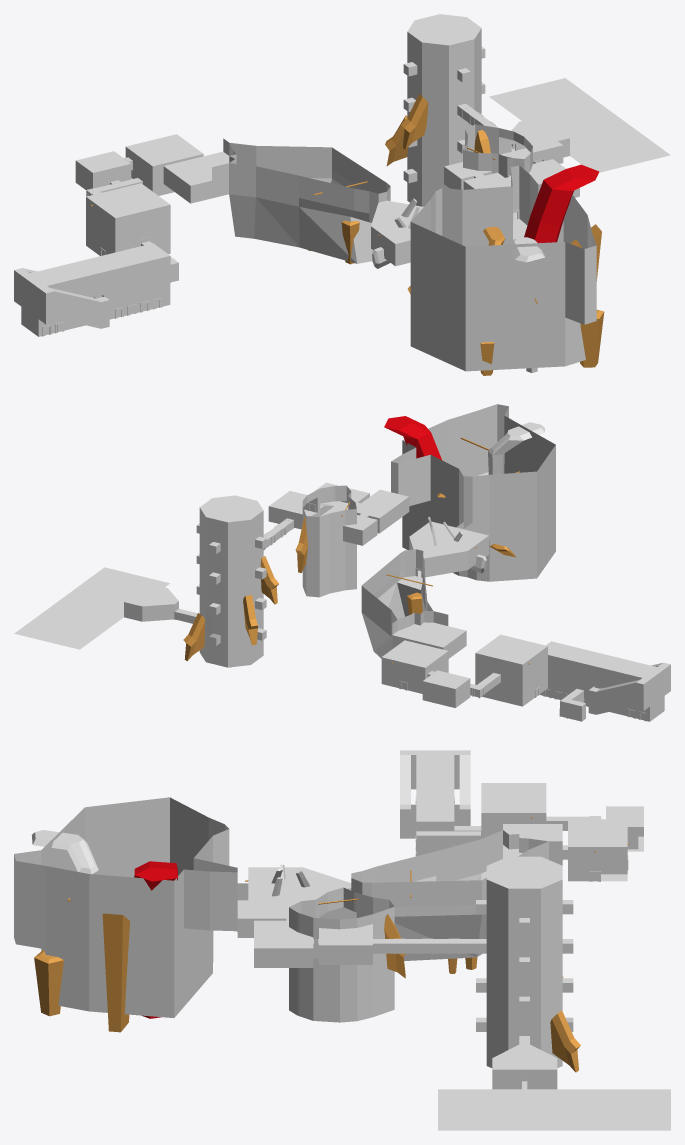
Rendered from Level1.fbx.
3 views of the same model, one above another, from view 1: azimuth 30°, elevation 25°; view 2: azimuth 150°, elevation 25°; view 3: azimuth 270°, elevation 25° (orthographic). The views are drawn at different scales.
Parts seen in each view (by area): view 1: Level, Roof, Cylinder.022, Cylinder.019, Brokenfacility.001, Cylinder.016, Brokenfacility.002; view 2: Level, Roof, Cylinder.022, Cylinder.016, Brokenfacility.003, Brokenfacility.002, Brokenfacility.001; view 3: Level, Roof, Cylinder.021, Cylinder.019, Cylinder.016, Brokenfacility.003, Cylinder.022, Brokenfacility.
Part boxes in pixels (x1,y1,x2,y2): Level: (14,28,670,371); Roof: (14,14,568,301); Cylinder.022: (524,164,599,243); Cylinder.019: (580,309,604,367); Brokenfacility.001: (401,94,428,149); Cylinder.016: (510,237,544,372); Brokenfacility.002: (385,115,407,166); Level: (14,404,670,721); Roof: (125,482,670,706); Cylinder.022: (384,416,441,459); Cylinder.016: (488,422,545,474); Brokenfacility.003: (183,613,213,661); Brokenfacility.002: (243,595,257,645); Brokenfacility.001: (260,556,278,604); Level: (14,755,670,1130); Roof: (237,750,643,1069); Cylinder.021: (102,913,129,1032); Cylinder.019: (34,949,63,1016); Cylinder.016: (32,830,98,874); Brokenfacility.003: (550,1010,580,1072); Cylinder.022: (134,861,177,1018); Brokenfacility: (384,914,405,978).
Size of the model in its own units: 15101 by 4068 by 12127.
